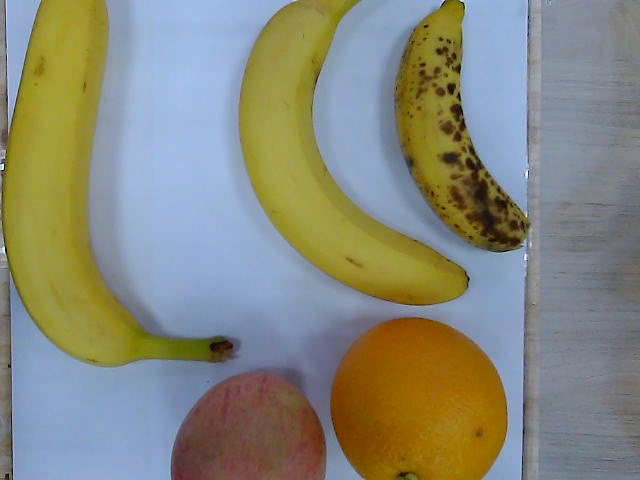fresh_apple: (169, 370, 325, 480)
fresh_banana: (240, 1, 471, 306), (6, 3, 154, 368)
fresh_orange: (332, 317, 509, 480)
rotten_banana: (394, 1, 530, 253)
